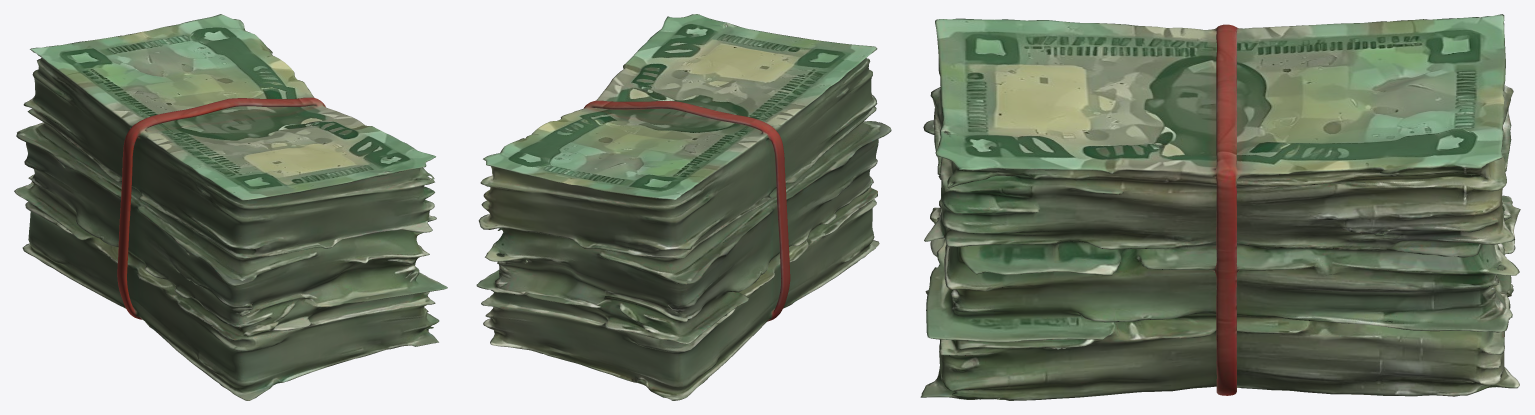
Rendered from ml_cash_stack.glb.
3 views of the same model, side by side, from view 1: azimuth 30°, elevation 25°; view 2: azimuth 150°, elevation 25°; view 3: azimuth 270°, elevation 25° (orthographic). The views are drawn at different scales.
Parts seen in each view (by area): view 1: tripo_node_d0bdc7b1-ea57-4b4b-8705-3c85d3c4ffe5; view 2: tripo_node_d0bdc7b1-ea57-4b4b-8705-3c85d3c4ffe5; view 3: tripo_node_d0bdc7b1-ea57-4b4b-8705-3c85d3c4ffe5.
Part boxes in pixels (x1,y1,x2,y2): tripo_node_d0bdc7b1-ea57-4b4b-8705-3c85d3c4ffe5: [14, 14, 447, 400]; tripo_node_d0bdc7b1-ea57-4b4b-8705-3c85d3c4ffe5: [476, 14, 891, 400]; tripo_node_d0bdc7b1-ea57-4b4b-8705-3c85d3c4ffe5: [920, 14, 1520, 400].
Size of the model in its own units: 0.5772 by 0.4912 by 0.9766.
Materials: 1 (1 with a texture image).
